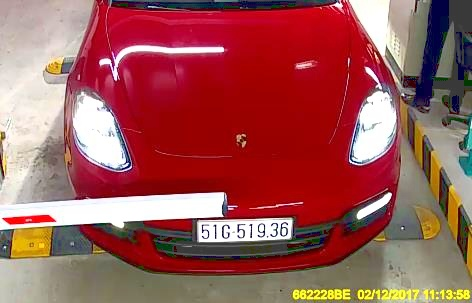plate: (194, 218, 292, 241)
